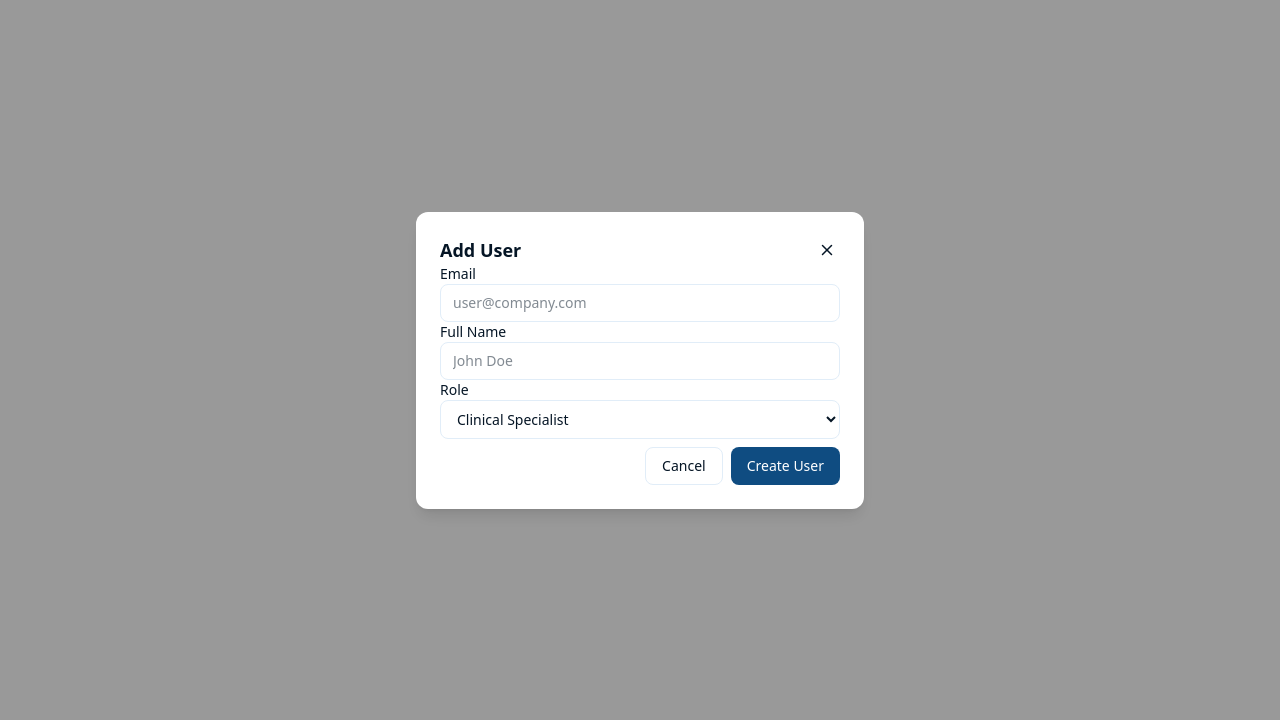
Scenario: UserCreateDialog › validates email format
The width and height of the screenshot is (1280, 720).
Type "invalid" into the field labelled "Email" at x=640, y=302, box [440,284,840,322]
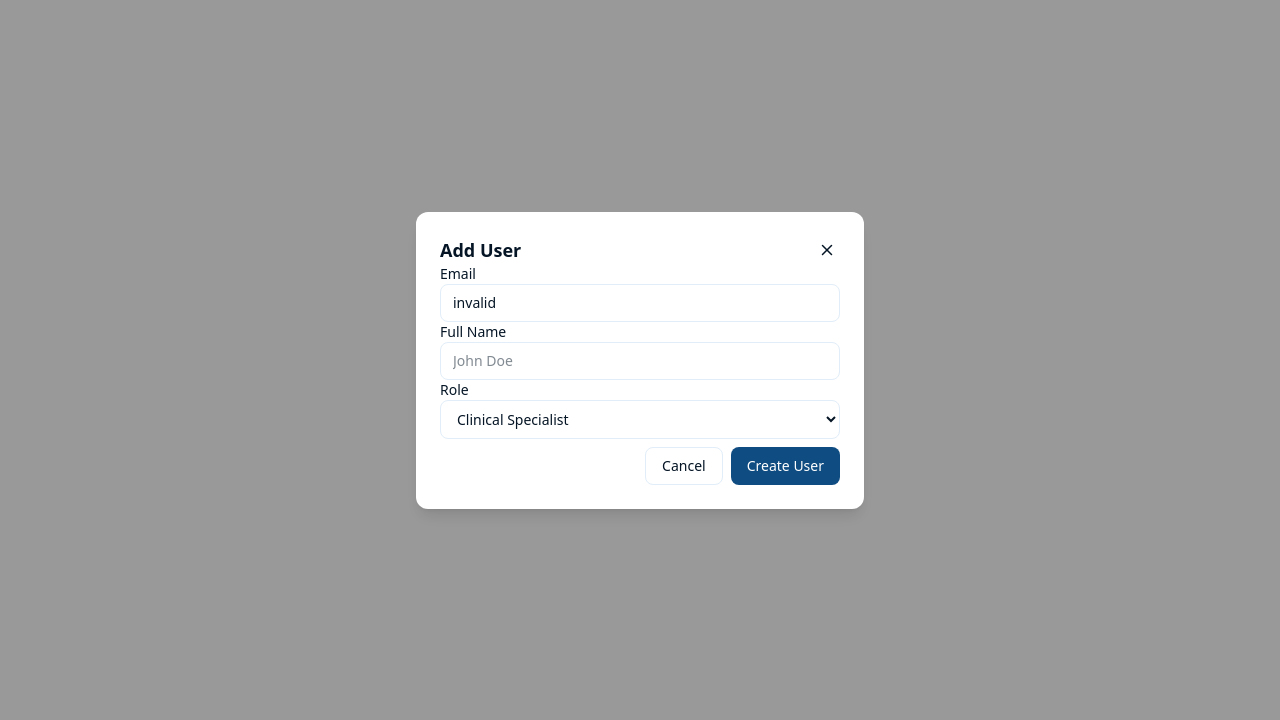
Type "Test" into the field labelled "Full Name" at x=640, y=360, box [440,342,840,380]
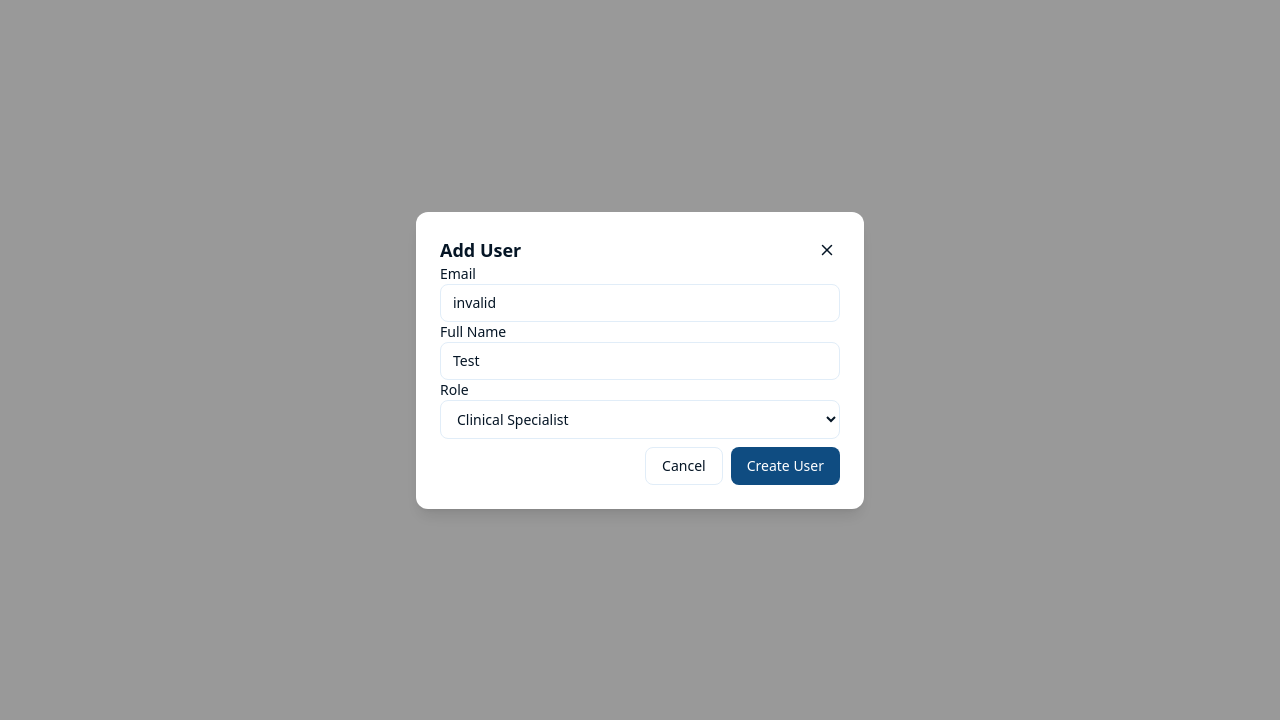
Submit the form labelled "Email", box [440,264,840,484]
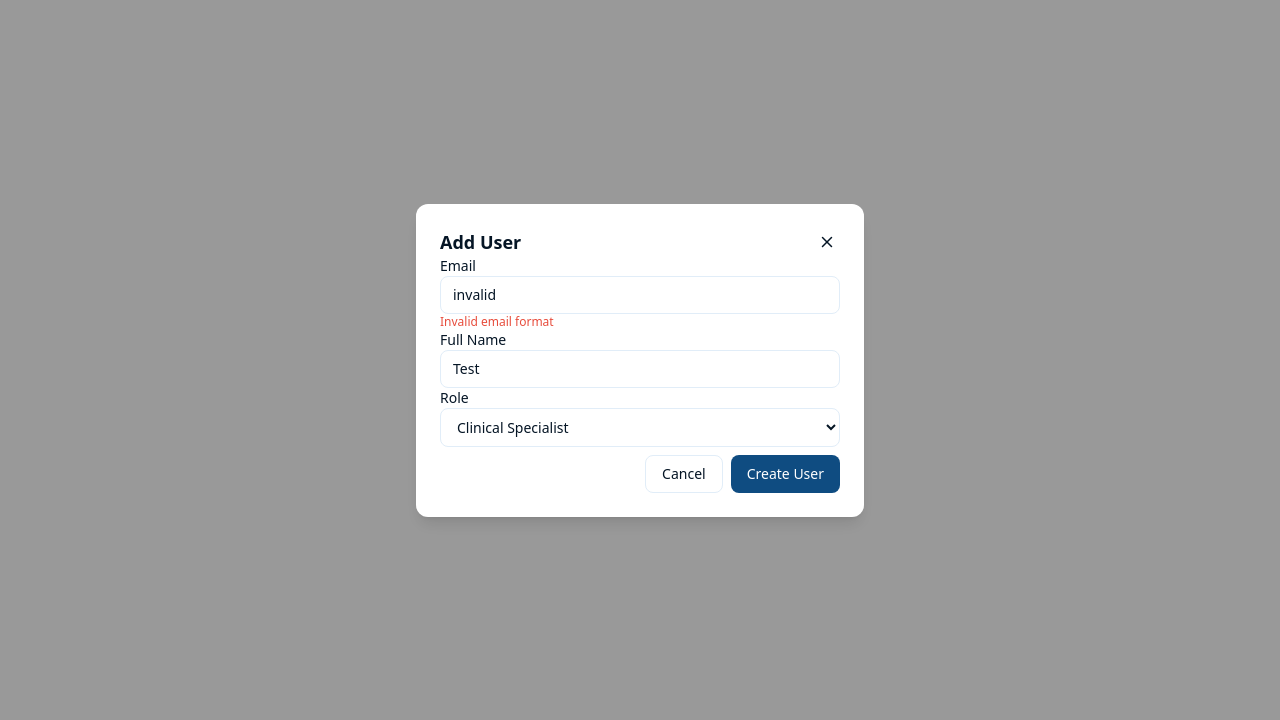
Check: the text "Invalid email format" is shown, box [440,312,554,330]
